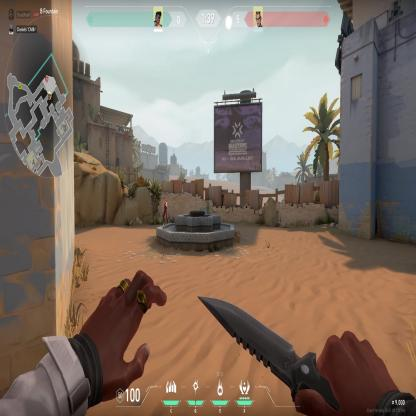enemy: (162, 198, 168, 225)
